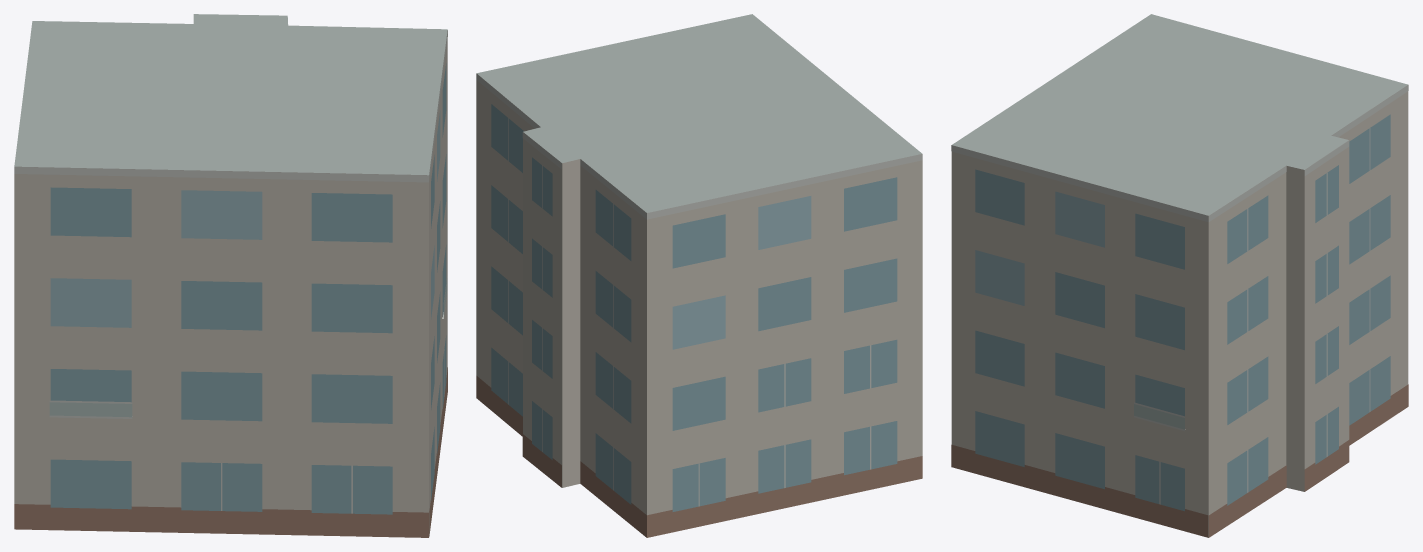
File: survey-upis-32619672.glb
3 renders of one model, left to right at view 1: azimuth 30°, elevation 25°; view 2: azimuth 150°, elevation 25°; view 3: azimuth 270°, elevation 25°, orthographic. The views are drawn at different scales.
Visible parts, largest first — view 1: survey-upis-32619672.tmp; view 2: survey-upis-32619672.tmp; view 3: survey-upis-32619672.tmp.
Boxes of the visible parts, bbox=[...] form: survey-upis-32619672.tmp: bbox=[14, 14, 447, 537]; survey-upis-32619672.tmp: bbox=[476, 14, 922, 537]; survey-upis-32619672.tmp: bbox=[951, 14, 1408, 537].
Bounding box in the file's own units: 16.41 × 12.2 × 15.69.
